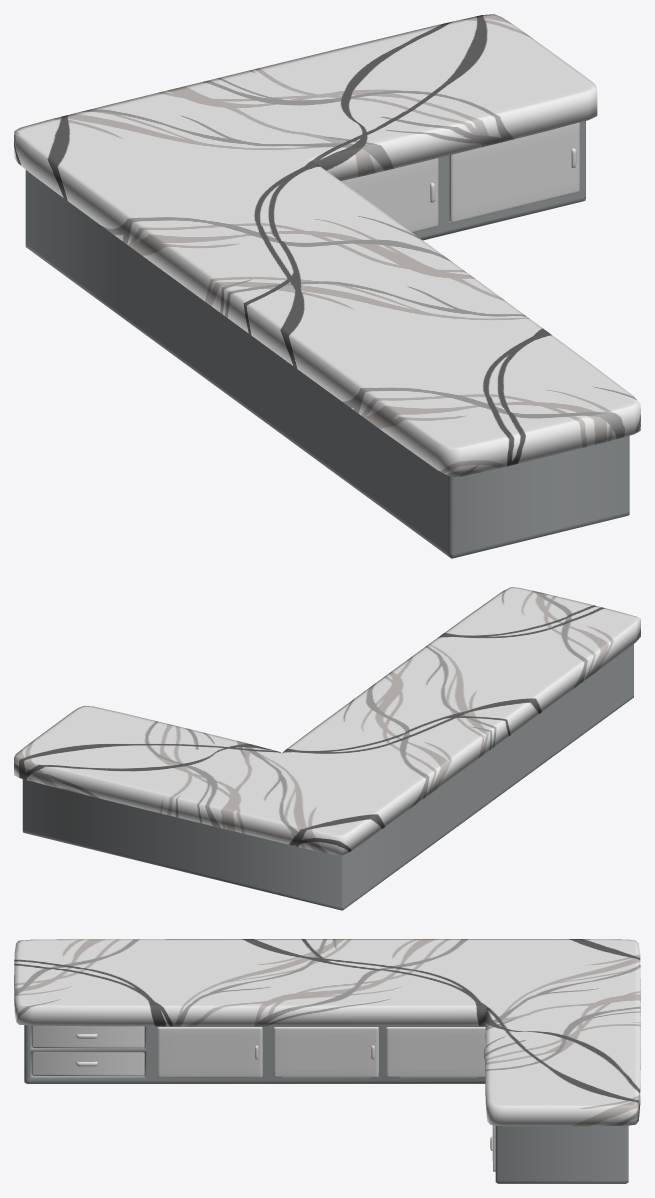
Rendered from FrontCount3.fbx.
3 views of the same model, one above another, from view 1: azimuth 30°, elevation 25°; view 2: azimuth 150°, elevation 25°; view 3: azimuth 270°, elevation 25° (orthographic). The views are drawn at different scales.
Parts seen in each view (by area): view 1: frontcountertop.001; view 2: frontcountertop.001; view 3: frontcountertop.001.
Part boxes in pixels (x1,y1,x2,y2): frontcountertop.001: [14, 14, 640, 558]; frontcountertop.001: [14, 587, 640, 910]; frontcountertop.001: [14, 939, 640, 1183].
Bounding box in the file's own units: 427 × 95.49 × 670.
